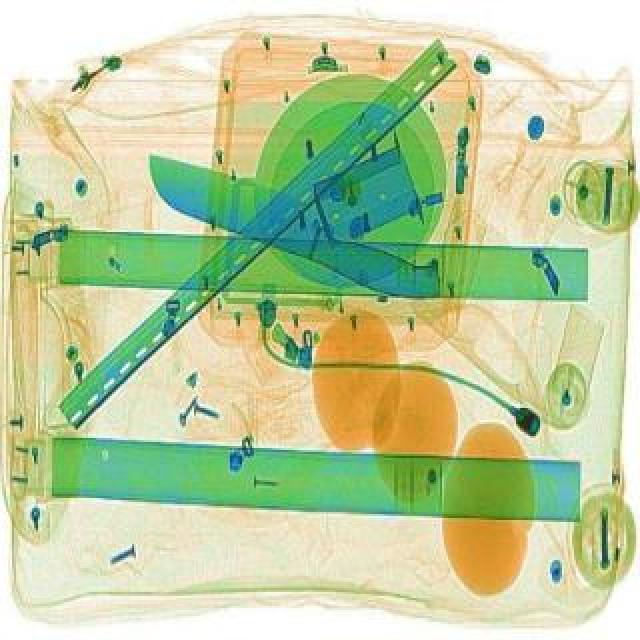knife: (134, 146, 460, 322)
